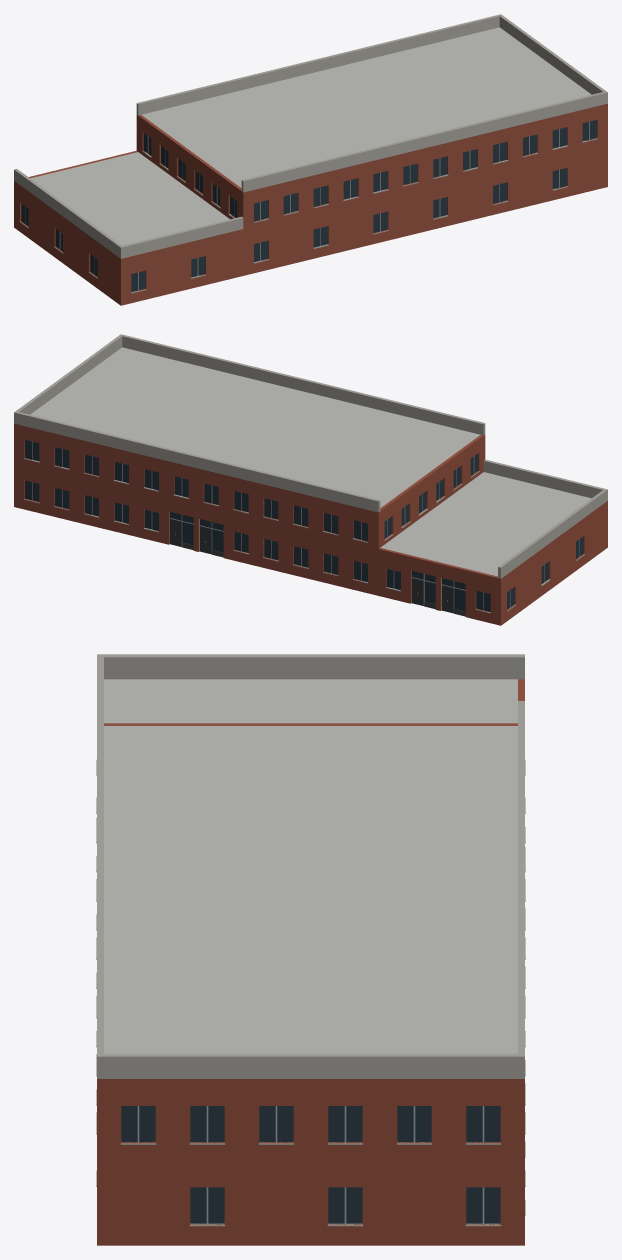
Rendered from bld_school.glb.
The picture shows the model from 3 angles, top to bottom: view 1: azimuth 30°, elevation 25°; view 2: azimuth 150°, elevation 25°; view 3: azimuth 270°, elevation 25°; orthographic projection. The views are drawn at different scales.
Visible parts, largest first — view 1: bld_school-col; view 2: bld_school-col; view 3: bld_school-col.
Part boxes in pixels (bbox=[...]): bld_school-col: bbox=[14, 14, 607, 305]; bld_school-col: bbox=[14, 334, 607, 625]; bld_school-col: bbox=[96, 654, 525, 1245].
Bounding box in the file's own units: 48.96 × 9.07 × 18.66.
